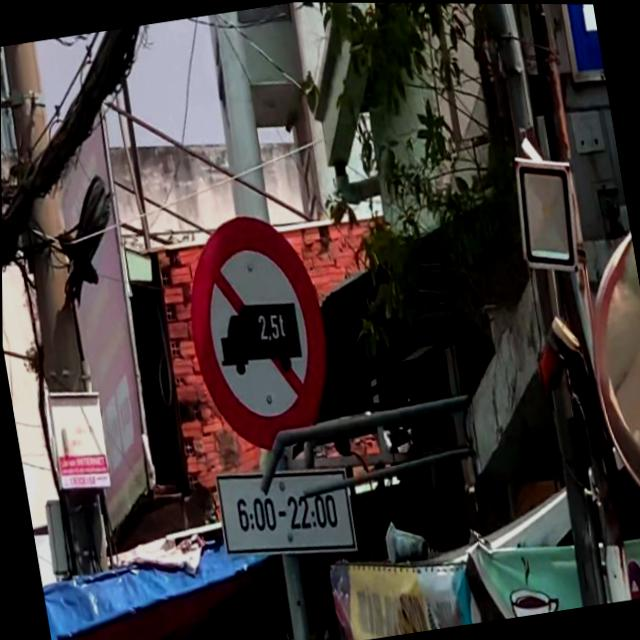Cam xe tai tren 2_5: (171, 197, 343, 468)
